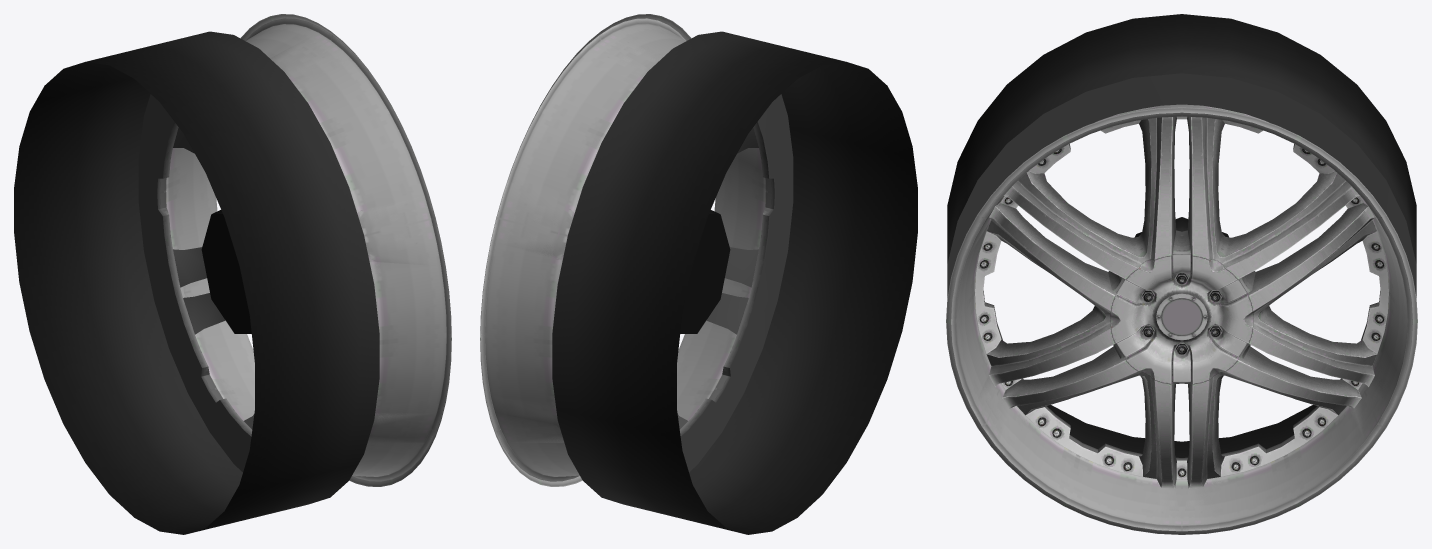
The model's file is wheel31.fbx.
3 renders of one model, left to right at view 1: azimuth 30°, elevation 25°; view 2: azimuth 150°, elevation 25°; view 3: azimuth 270°, elevation 25°, orthographic. The views are drawn at different scales.
Parts seen in each view (by area): view 1: dro_ds03_wheel_wheel_inner_rim_, wheel_rim, dro_ds03_wheel_wheel_chrome_rim_; view 2: dro_ds03_wheel_wheel_inner_rim_, wheel_rim, dro_ds03_wheel_wheel_chrome_rim_; view 3: dro_ds03_wheel_wheel_chrome_rim_, wheel_rim, dro_ds03_wheel_wheel_inner_rim_.
Boxes of the visible parts, x1,y1,x2,y2 form: dro_ds03_wheel_wheel_inner_rim_: (14, 31, 379, 534); wheel_rim: (157, 14, 451, 486); dro_ds03_wheel_wheel_chrome_rim_: (175, 14, 451, 483); dro_ds03_wheel_wheel_inner_rim_: (552, 31, 917, 534); wheel_rim: (480, 14, 774, 486); dro_ds03_wheel_wheel_chrome_rim_: (480, 14, 756, 482); dro_ds03_wheel_wheel_chrome_rim_: (946, 105, 1417, 534); wheel_rim: (946, 104, 1417, 534); dro_ds03_wheel_wheel_inner_rim_: (947, 14, 1416, 457).
Size of the model in its own units: 0.227 by 0.48 by 0.48.
1 material, 1 textured.
